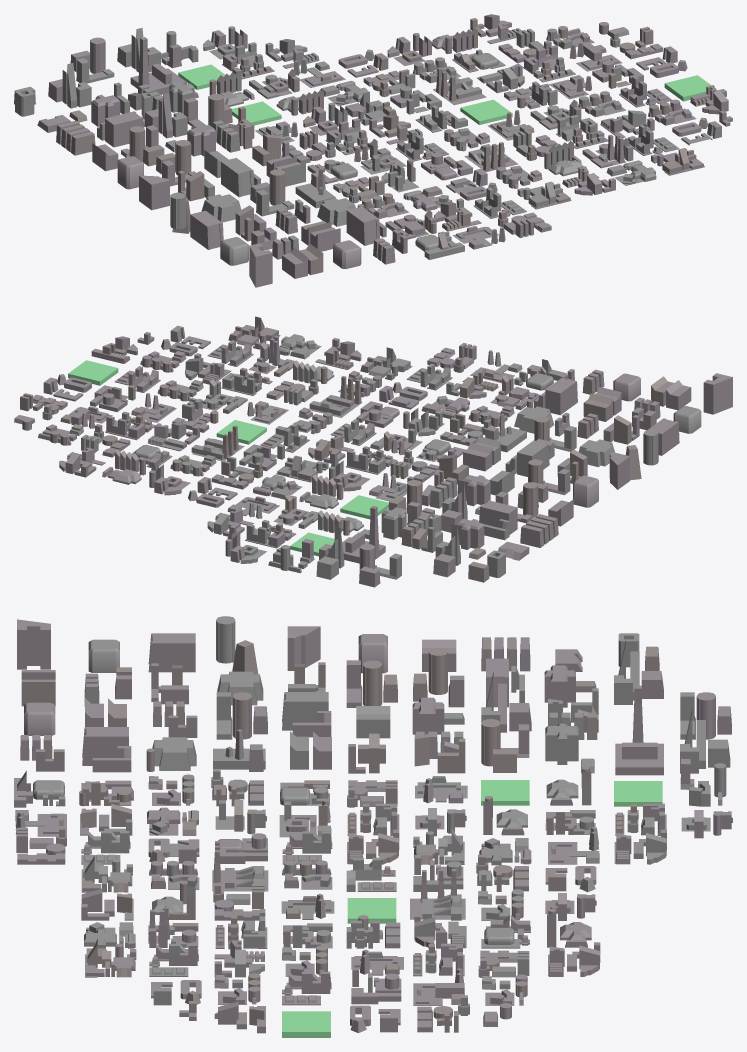
The model's file is edificios.DAE.
3 views of the same model, one above another, from view 1: azimuth 30°, elevation 25°; view 2: azimuth 150°, elevation 25°; view 3: azimuth 270°, elevation 25° (orthographic). The views are drawn at different scales.
Visible parts, largest first — view 1: edificios; view 2: edificios; view 3: edificios.
Boxes of the visible parts, x1,y1,x2,y2 form: edificios: (14,14,732,287); edificios: (14,316,732,587); edificios: (14,616,732,1037).
Bounding box in the file's own units: 622 × 529 × 62.78.
